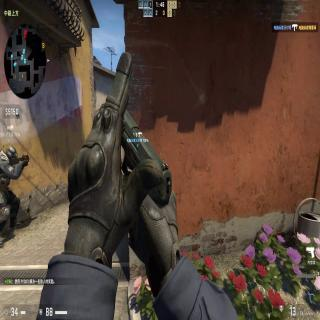CT-Body: (0, 146, 25, 249)
CT-Head: (5, 146, 18, 166)
